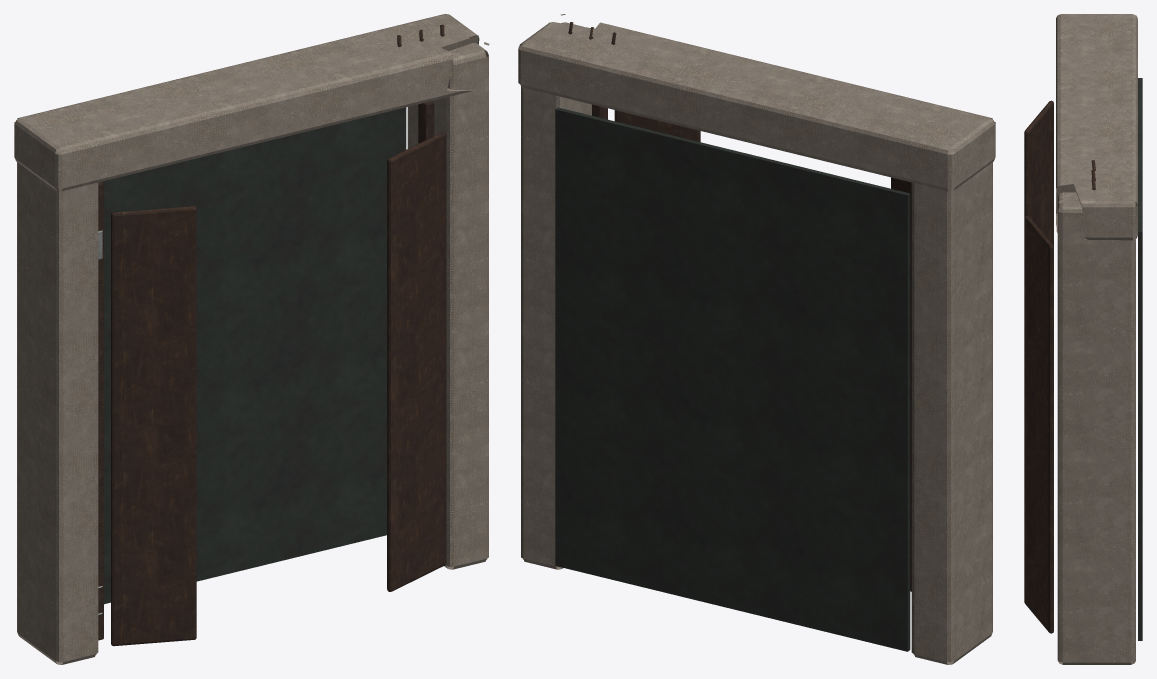
File: lod1_NOT_APPROVED.glb
3 renders of one model, left to right at view 1: azimuth 30°, elevation 25°; view 2: azimuth 150°, elevation 25°; view 3: azimuth 270°, elevation 25°, orthographic. The views are drawn at different scales.
Parts seen in each view (by area): view 1: f3_weathered_concrete_surface, f3_deep_crack_surface, f3_oxidized_iron_surface; view 2: f3_deep_crack_surface, f3_weathered_concrete_surface, f3_oxidized_iron_surface; view 3: f3_weathered_concrete_surface, f3_oxidized_iron_surface, f3_deep_crack_surface.
Boxes of the visible parts, x1,y1,x2,y2 form: f3_weathered_concrete_surface: (14,14,489,664); f3_deep_crack_surface: (102,107,406,604); f3_oxidized_iron_surface: (98,24,446,646); f3_deep_crack_surface: (555,107,910,651); f3_weathered_concrete_surface: (518,14,995,664); f3_oxidized_iron_surface: (568,22,911,591); f3_weathered_concrete_surface: (1056,14,1137,664); f3_oxidized_iron_surface: (1024,100,1095,633); f3_deep_crack_surface: (1138,78,1142,640).
Bounding box in the file's own units: 3.75 × 4.35 × 0.9829.
4 materials, 4 textured.
